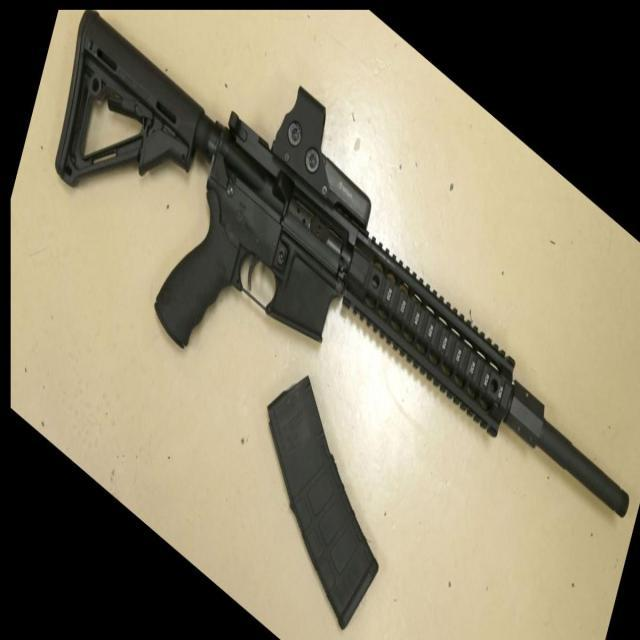weapon: (54, 9, 630, 520)
